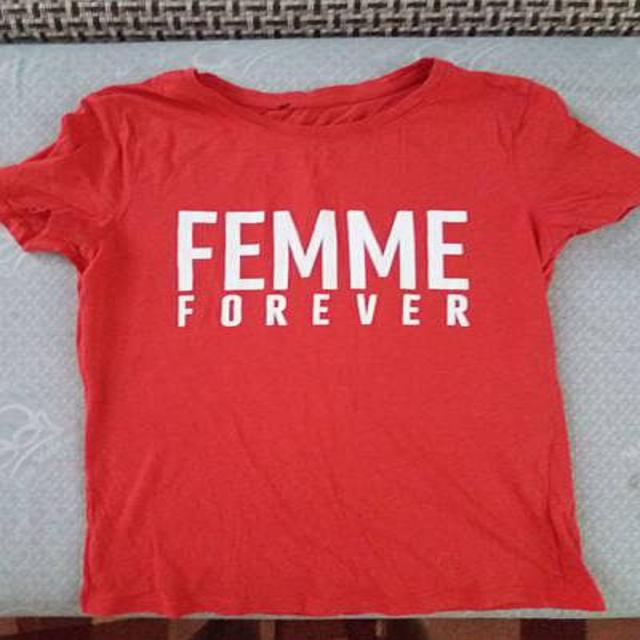T_SHIRT: (5, 53, 640, 631)
